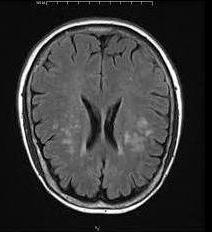Normal_Brain: (1, 1, 212, 232)
